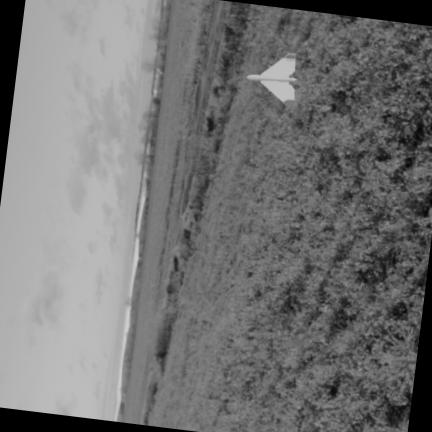Shahed: (247, 52, 297, 105)
